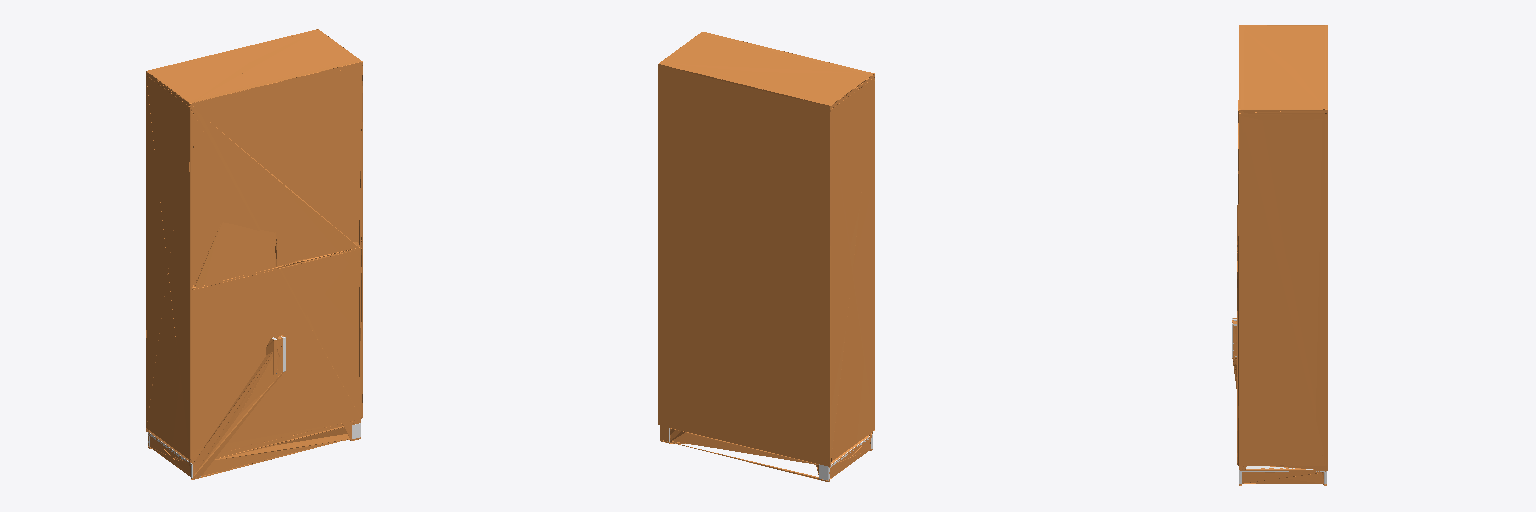
3 views of the same model, side by side, from view 1: azimuth 30°, elevation 25°; view 2: azimuth 150°, elevation 25°; view 3: azimuth 270°, elevation 25° (orthographic).
Parts seen in each view (by area): view 1: archmodels87_051_001; view 2: archmodels87_051_001; view 3: archmodels87_051_001.
Part boxes in pixels (bbox=[...]): archmodels87_051_001: bbox=[146, 29, 362, 479]; archmodels87_051_001: bbox=[658, 32, 874, 481]; archmodels87_051_001: bbox=[1232, 25, 1327, 485].
Bounding box in the file's own units: 35.43 × 74.02 × 17.01.